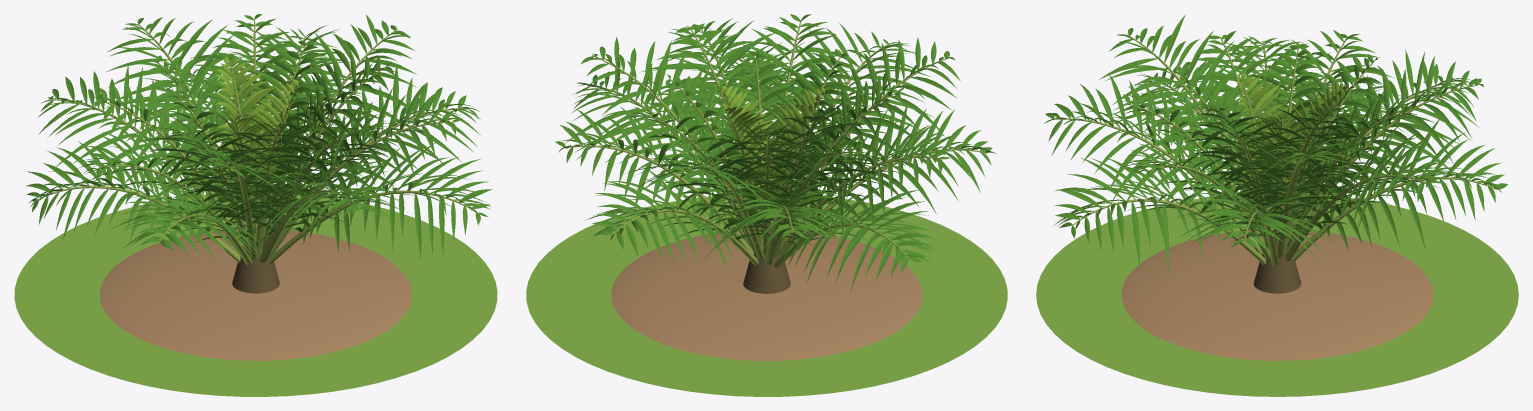
Rendered from kelapa-sawit-tbm1.glb.
3 renders of one model, left to right at view 1: azimuth 30°, elevation 25°; view 2: azimuth 150°, elevation 25°; view 3: azimuth 270°, elevation 25°, orthographic.
Visible parts, largest first — view 1: rumput, piringan, anak_daun_25, anak_daun_26, anak_daun_23, anak_daun_14, anak_daun_16, anak_daun_21, anak_daun_20, anak_daun_17, anak_daun_15, anak_daun_22 (+26 smaller); view 2: rumput, piringan, anak_daun_26, anak_daun_24, anak_daun_19, anak_daun_15, anak_daun_23, anak_daun_21, anak_daun_14, anak_daun_18, anak_daun_9, anak_daun_22 (+26 smaller); view 3: rumput, piringan, anak_daun_25, anak_daun_24, anak_daun_20, anak_daun_15, anak_daun_16, anak_daun_19, anak_daun_22, anak_daun_14, anak_daun_21, anak_daun_17 (+25 smaller).
Boxes of the visible parts, x1,y1,x2,y2 form: rumput: (14,195,497,396); piringan: (100,229,411,360); anak_daun_25: (292,141,492,260); anak_daun_26: (26,141,210,248); anak_daun_23: (111,179,266,260); anak_daun_14: (267,14,427,194); anak_daun_16: (105,17,253,190); anak_daun_21: (38,66,222,219); anak_daun_20: (234,137,407,246); anak_daun_17: (289,84,461,231); anak_daun_15: (156,127,314,230); anak_daun_22: (291,63,480,220); rumput: (526,196,1007,396); piringan: (611,231,922,360); anak_daun_26: (781,181,940,292); anak_daun_24: (585,166,748,272); anak_daun_19: (555,107,737,236); anak_daun_15: (791,37,960,207); anak_daun_23: (809,104,995,238); anak_daun_21: (700,178,865,260); anak_daun_14: (580,37,740,203); anak_daun_18: (789,110,952,237); anak_daun_9: (653,23,791,199); anak_daun_22: (565,57,729,211); rumput: (1036,194,1518,396); piringan: (1121,230,1433,360); anak_daun_25: (1053,157,1250,275); anak_daun_24: (1315,118,1507,251); anak_daun_20: (1044,74,1237,220); anak_daun_15: (1099,14,1264,202); anak_daun_16: (1311,52,1483,211); anak_daun_19: (1292,123,1455,243); anak_daun_22: (1172,184,1338,264); anak_daun_14: (1220,126,1386,220); anak_daun_21: (1304,49,1479,208); anak_daun_17: (1116,122,1280,236).
Size of the model in its own units: 3.2 by 1.66 by 3.2.
